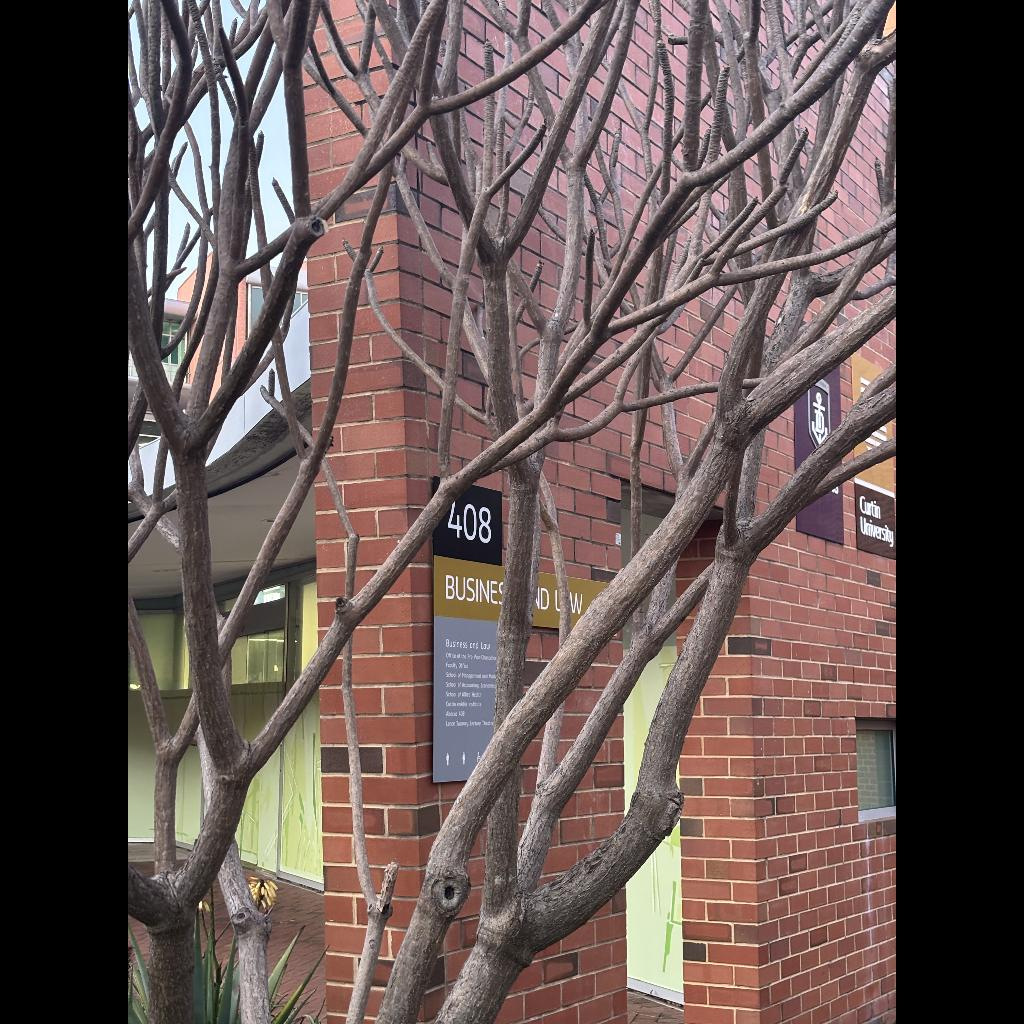BuildingCodes: (444, 494, 496, 550)
